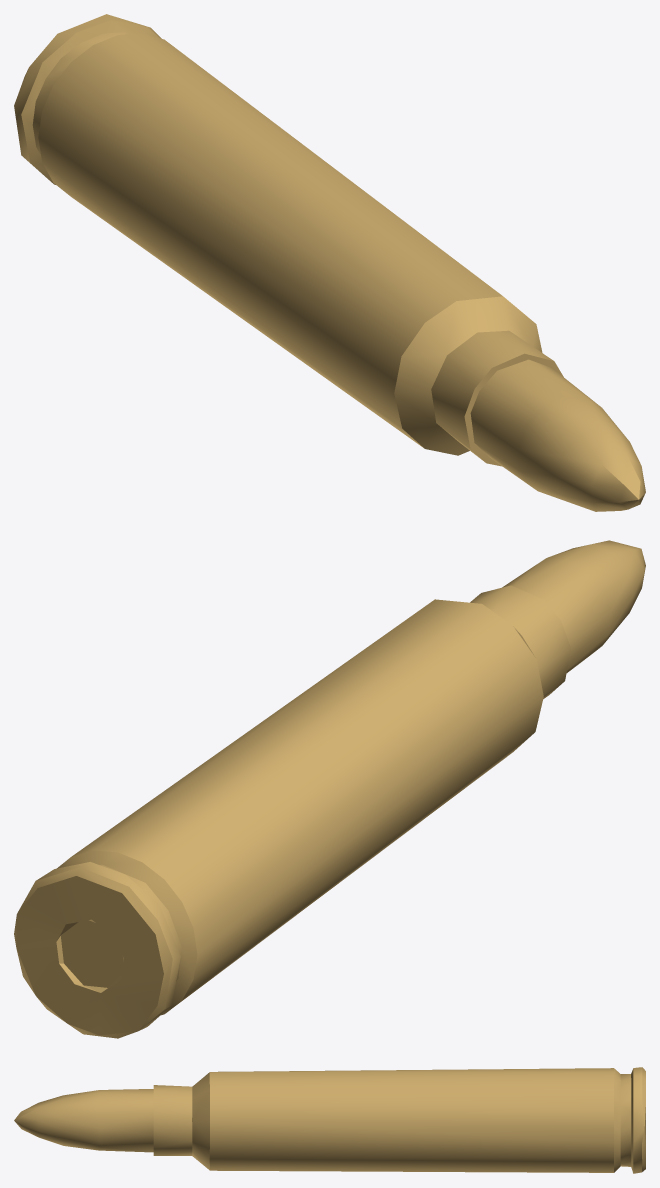
Rendered from SM_AR15_MagRound_LOD1.fbx.
3 renders of one model, top to bottom at view 1: azimuth 30°, elevation 25°; view 2: azimuth 150°, elevation 25°; view 3: azimuth 270°, elevation 25°, orthographic. The views are drawn at different scales.
Visible parts, largest first — view 1: SM_AR15_MagRound_LOD1; view 2: SM_AR15_MagRound_LOD1; view 3: SM_AR15_MagRound_LOD1.
Boxes of the visible parts, left/top/right/bottom form: SM_AR15_MagRound_LOD1: left=14, top=14, right=645, bottom=511; SM_AR15_MagRound_LOD1: left=14, top=540, right=645, bottom=1038; SM_AR15_MagRound_LOD1: left=14, top=1067, right=645, bottom=1173.
Size of the model in its own units: 0.9611 by 5.74 by 0.9619.
